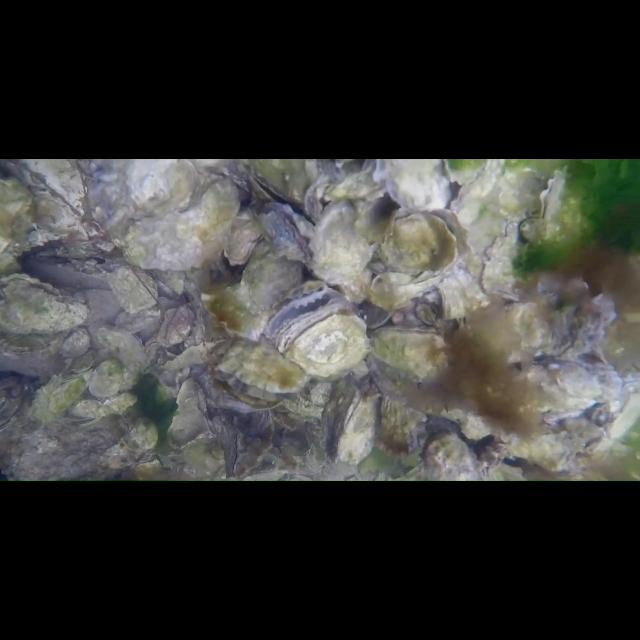Oyster-Closed: (538, 274, 618, 362), (310, 200, 374, 302), (380, 212, 456, 275), (372, 323, 447, 382), (375, 160, 459, 209), (128, 160, 198, 214), (0, 179, 32, 274), (379, 396, 428, 455), (421, 432, 480, 480), (258, 214, 309, 263), (106, 266, 158, 314), (540, 168, 566, 236), (156, 305, 195, 348), (224, 220, 259, 264), (89, 359, 124, 398), (144, 336, 161, 366)
Oyster-Open: (265, 288, 370, 381), (213, 336, 315, 407), (0, 274, 89, 334), (322, 376, 380, 464), (168, 379, 209, 446)
